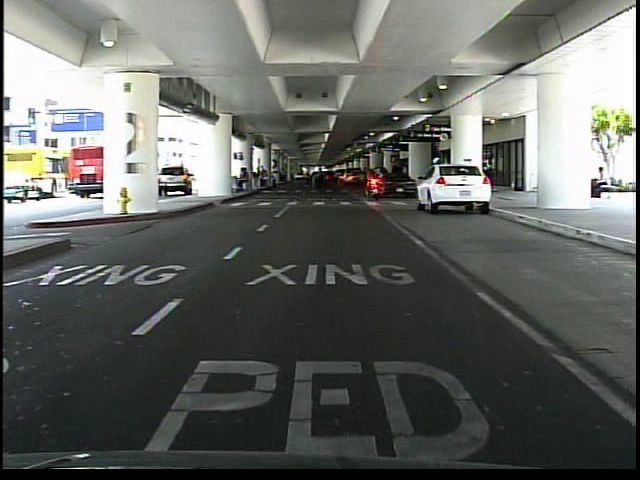person: (585, 164, 613, 201), (429, 152, 446, 208)
